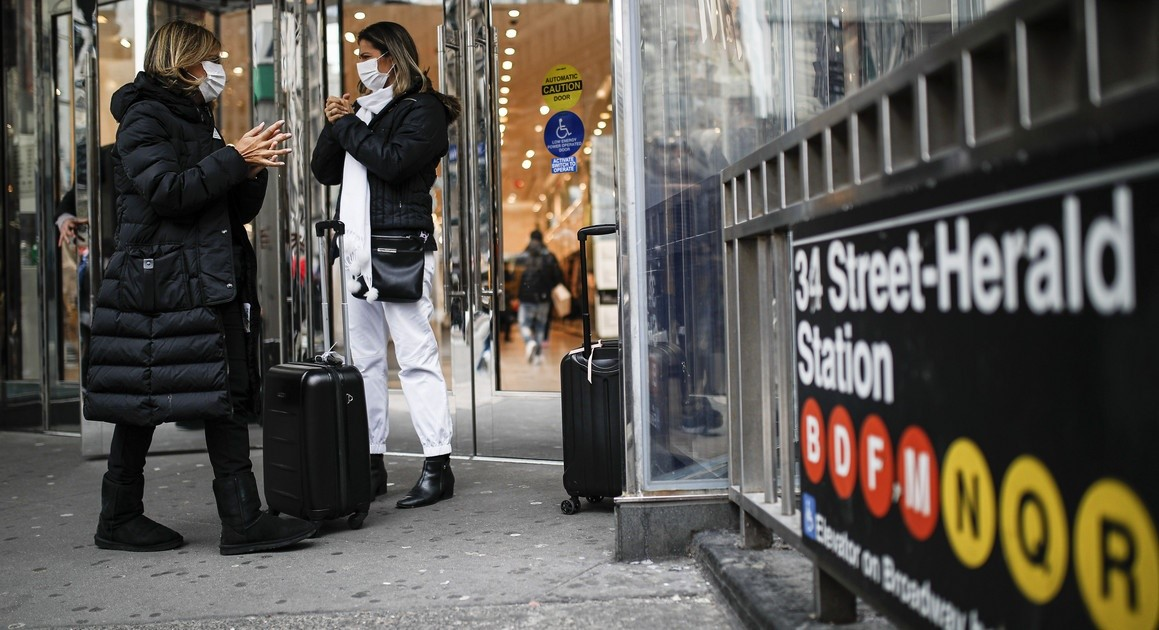face_with_mask: (147, 19, 233, 109), (354, 19, 422, 98)
